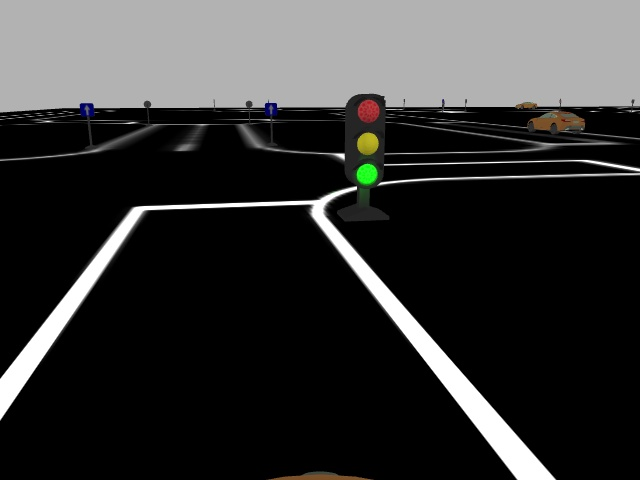green_light: (342, 91, 387, 190)
oneway: (78, 102, 95, 118), (263, 102, 280, 118)
